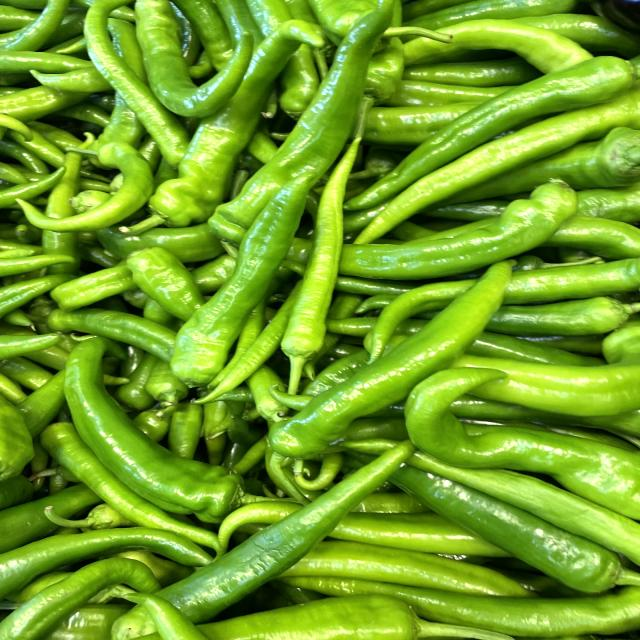green pepper: (263, 254, 533, 465), (155, 169, 324, 382), (132, 3, 256, 119)
